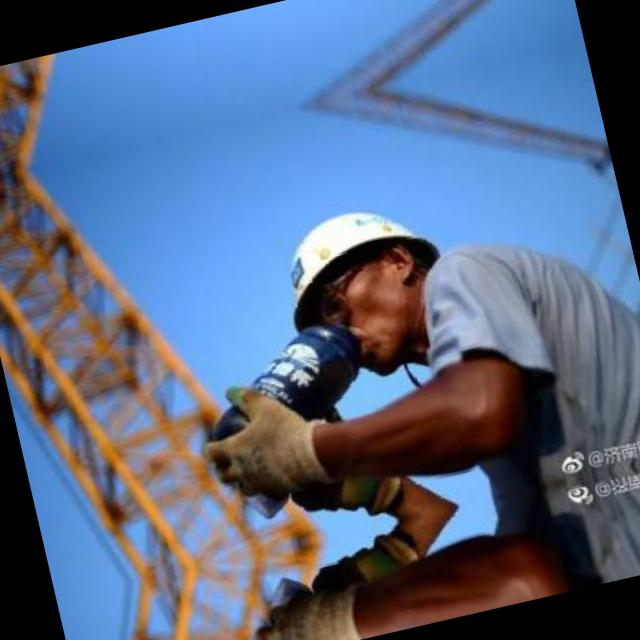helmet: (265, 193, 466, 388)
